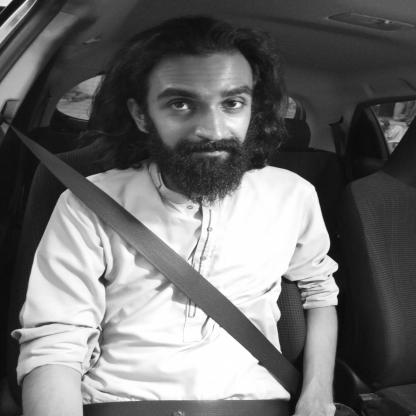seatbelt: (97, 18, 280, 394)
